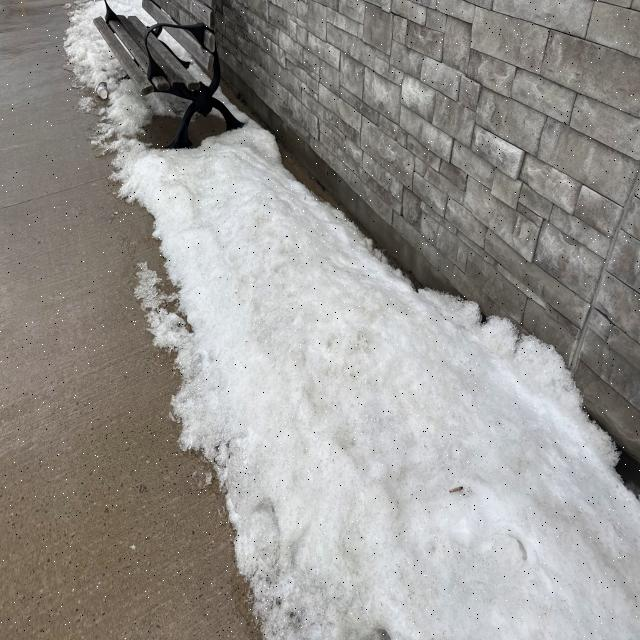Bench: (110, 3, 238, 142)
